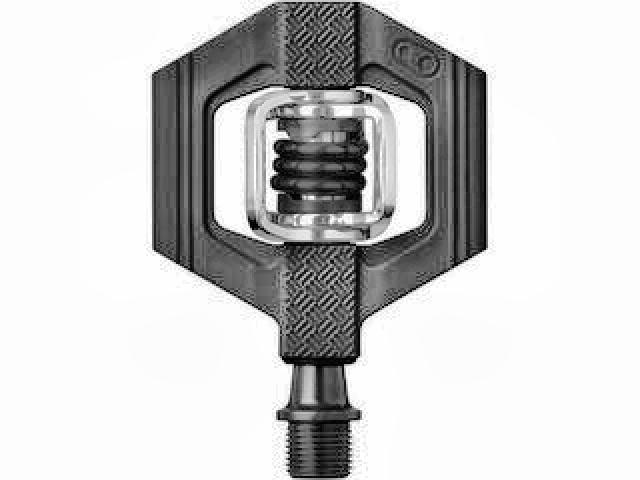pedal: (148, 2, 490, 477)
